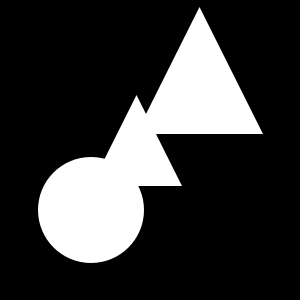rectangle: (38, 157, 144, 263)
triangle: (136, 7, 263, 134), (91, 95, 182, 186)
